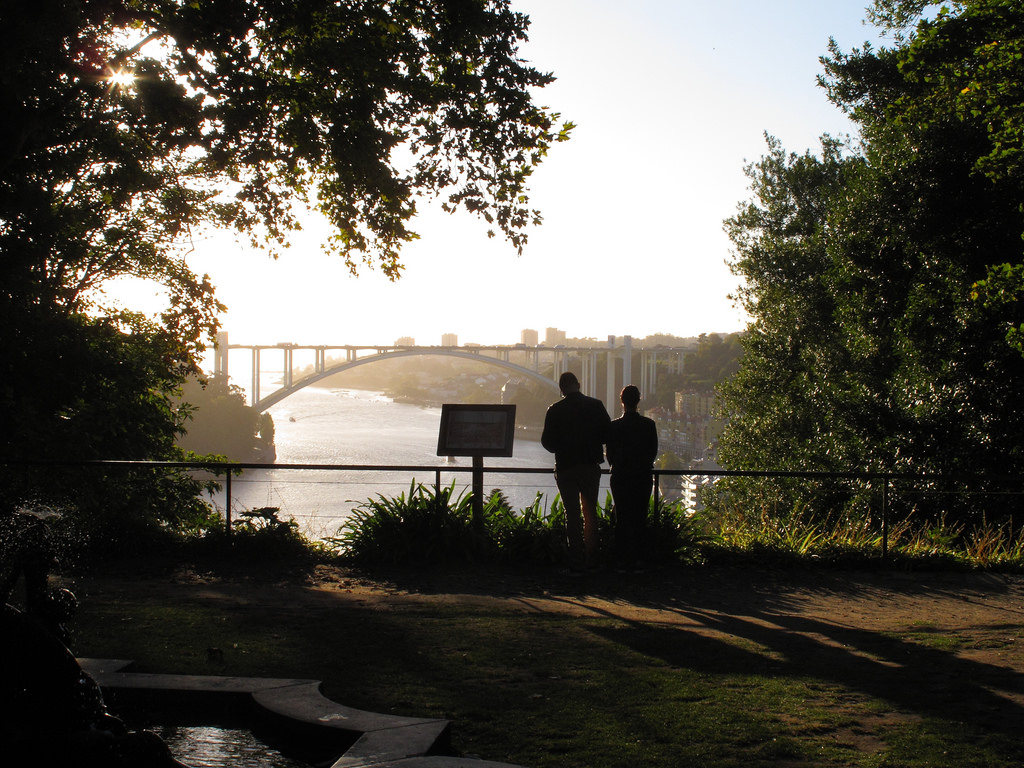arrabida: (188, 330, 700, 422)
